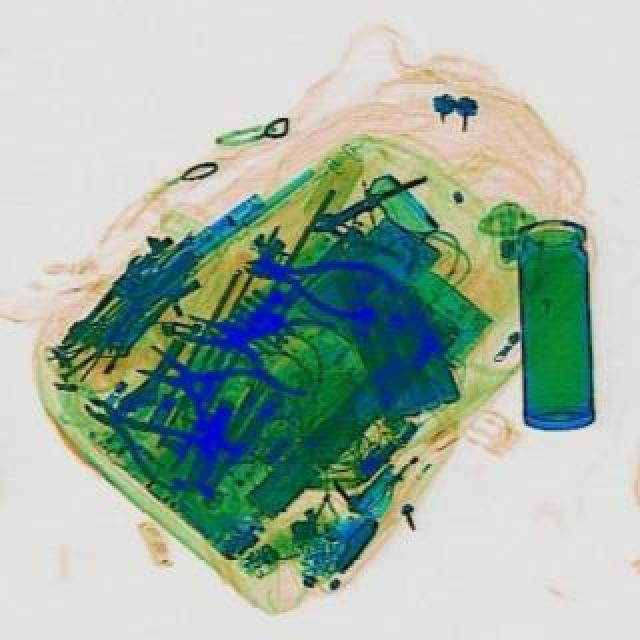wrench: (116, 320, 300, 464), (66, 374, 224, 502), (170, 284, 338, 400), (236, 234, 400, 328)
